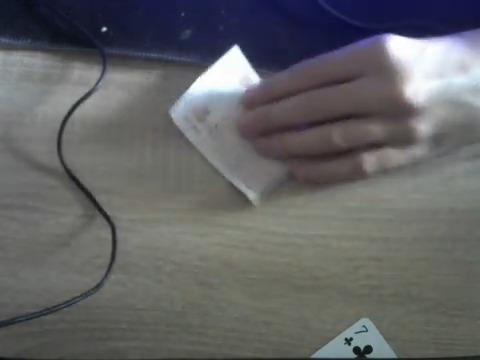5leva: (168, 45, 290, 208)
